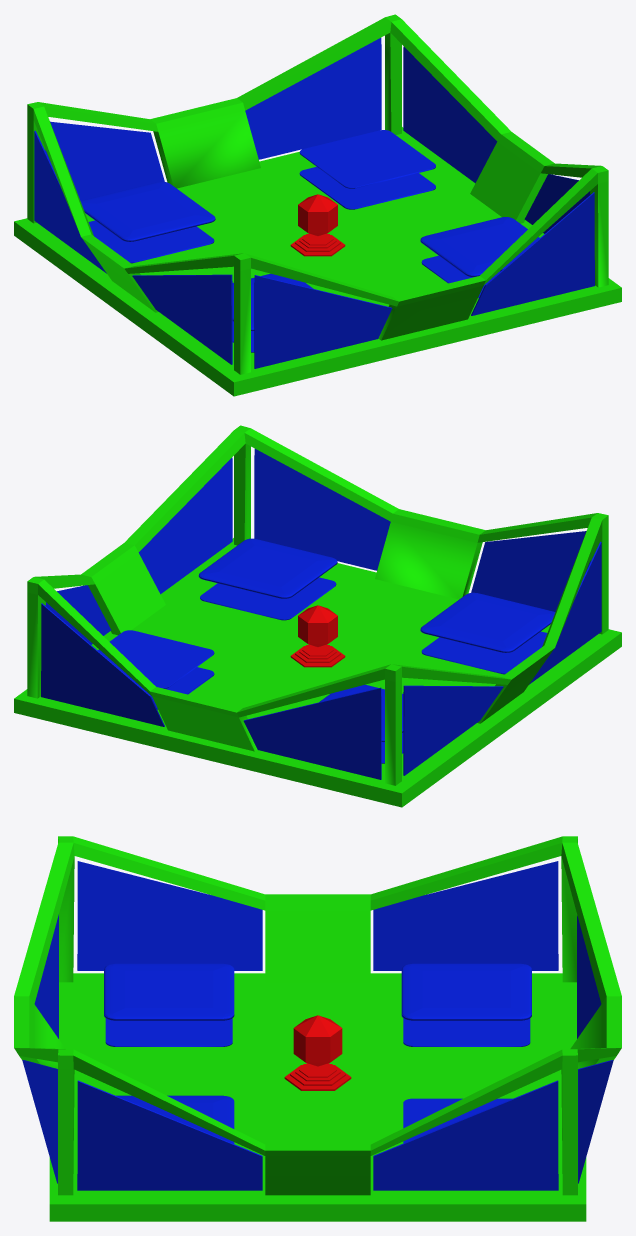
Rendered from ArenaV8.fbx.
3 renders of one model, top to bottom at view 1: azimuth 30°, elevation 25°; view 2: azimuth 150°, elevation 25°; view 3: azimuth 270°, elevation 25°, orthographic. The views are drawn at different scales.
Visible parts, largest first — view 1: Blue, Green, Red; view 2: Blue, Green, Red; view 3: Blue, Green, Red.
Part boxes in pixels (x1,y1,x2,y2): Blue: (14,14,621,396); Green: (34,38,594,368); Red: (290,194,345,256); Blue: (14,425,621,807); Green: (41,449,601,779); Red: (290,605,345,667); Blue: (14,836,621,1221); Green: (22,861,613,1190); Red: (284,1015,351,1090).
Size of the model in its own units: 7440 by 2169 by 7456.
